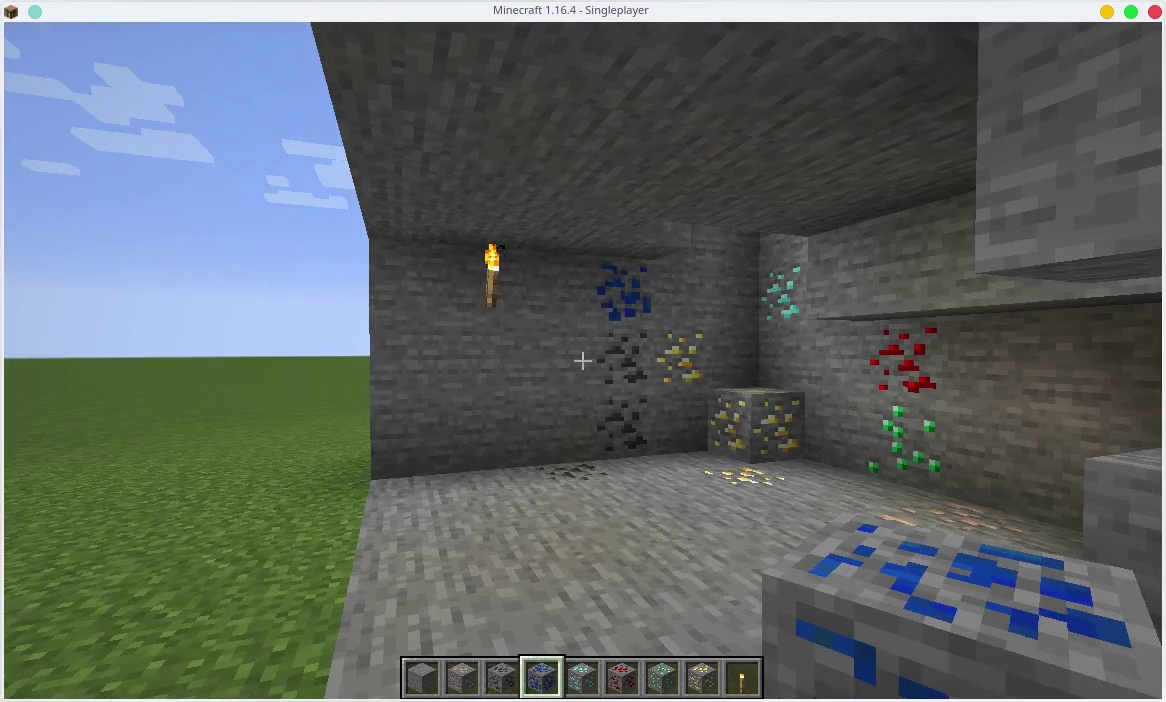gold: (708, 389, 802, 458), (652, 332, 707, 386), (706, 464, 787, 489), (685, 661, 727, 697)
